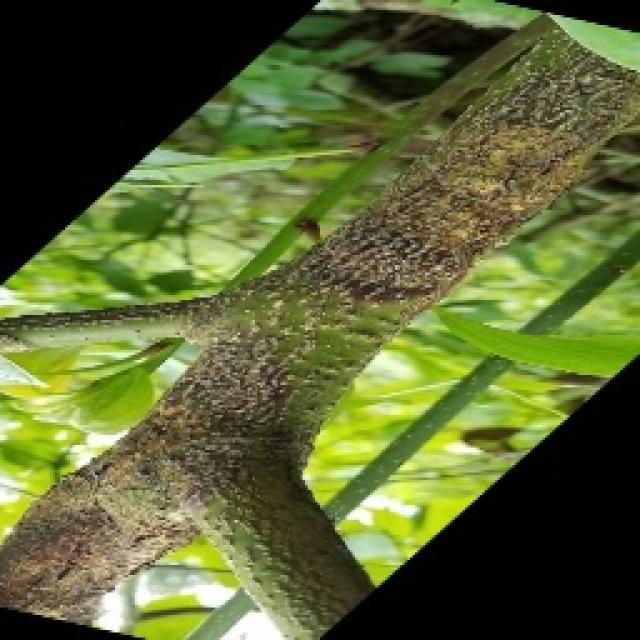Golden_canker: (7, 18, 634, 640)
